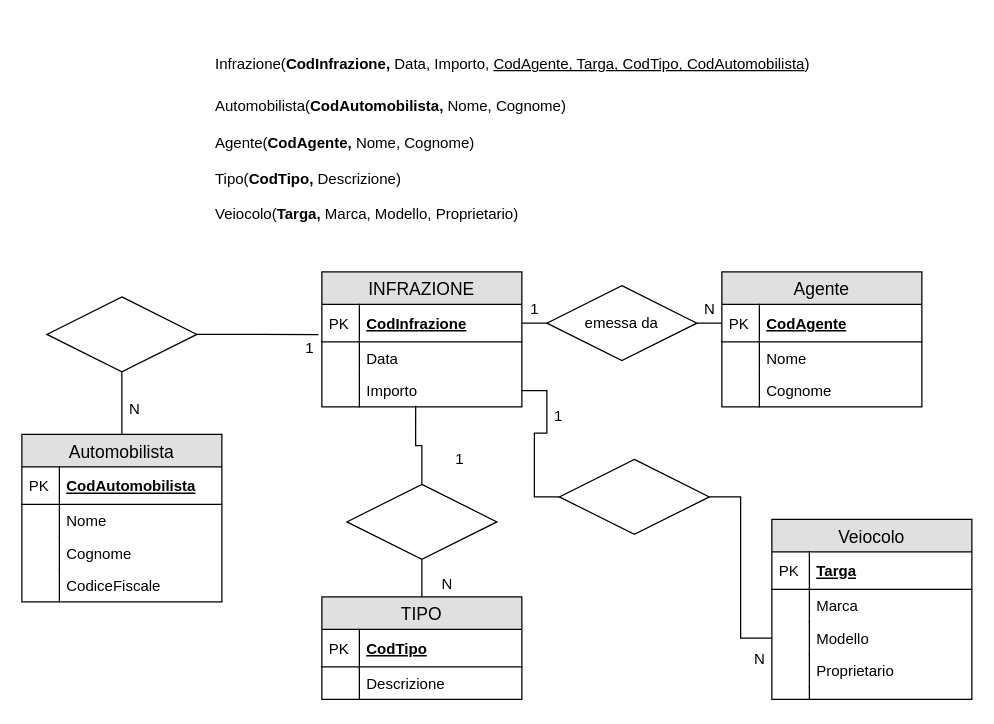
This 994x724 diagram has some shape labels left out. Here are the shapes that lost their labels. From the top down, the centre of each, then its label:
At point 121,334: "svolta da".
At point 633,496: "Assegnata".
At point 421,521: "tipologia".
